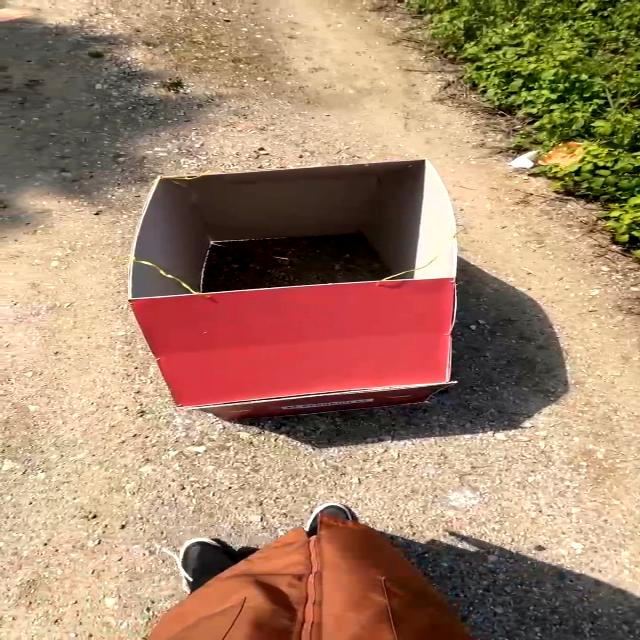red_car: (98, 151, 530, 439)
